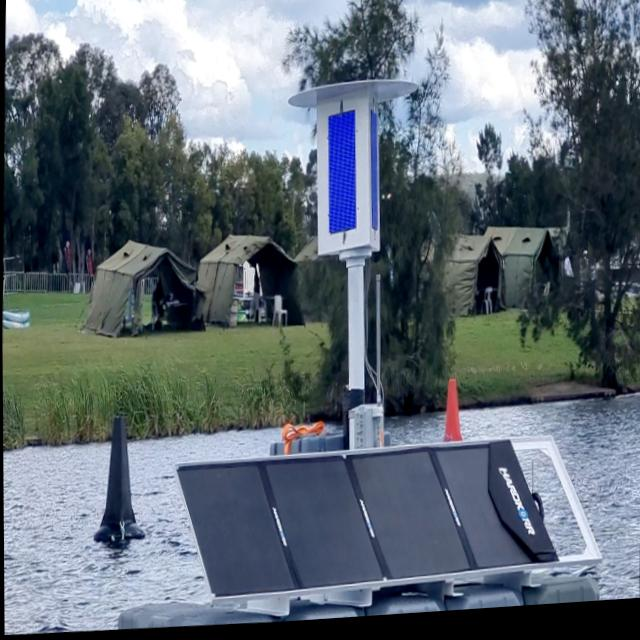led: (318, 102, 366, 251)
